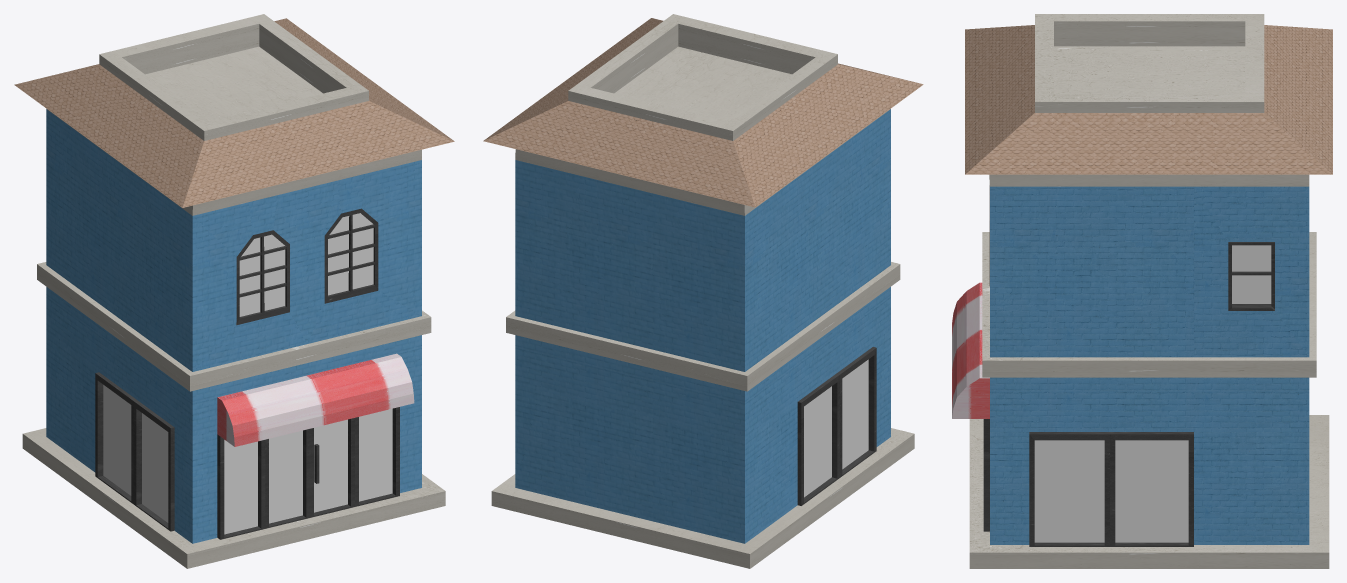
Rendered from Commercial_high.fbx.
The picture shows the model from 3 angles, left to right: view 1: azimuth 30°, elevation 25°; view 2: azimuth 150°, elevation 25°; view 3: azimuth 270°, elevation 25°; orthographic projection. The views are drawn at different scales.
Parts seen in each view (by area): view 1: Cube, Cube.001; view 2: Cube, Cube.001; view 3: Cube, Cube.001.
Boxes of the visible parts, x1,y1,x2,y2 form: Cube: (14, 14, 454, 568); Cube.001: (103, 213, 392, 534); Cube: (483, 14, 923, 568); Cube.001: (804, 359, 868, 497); Cube: (952, 14, 1332, 568); Cube.001: (1034, 245, 1271, 542).
Size of the model in its own units: 913 by 1296 by 1012.
